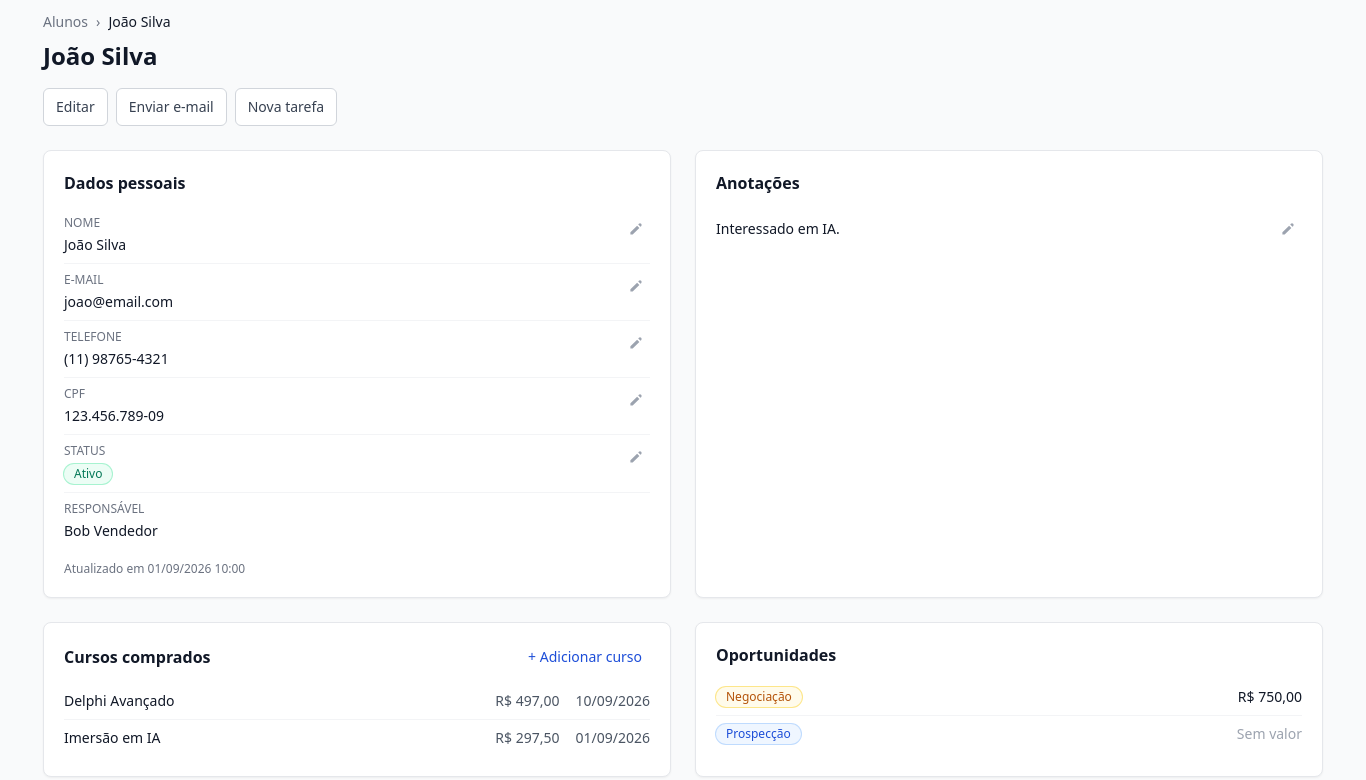
Scenario: página de detalhe do aluno › edição inline › a tela reflete a resposta do servidor, inclusive o updatedAt
Expected: the heading "João Silva" is shown, [43,39,157,72]
Click the button named "Editar cpf": (636, 400) [622,386,650,414]
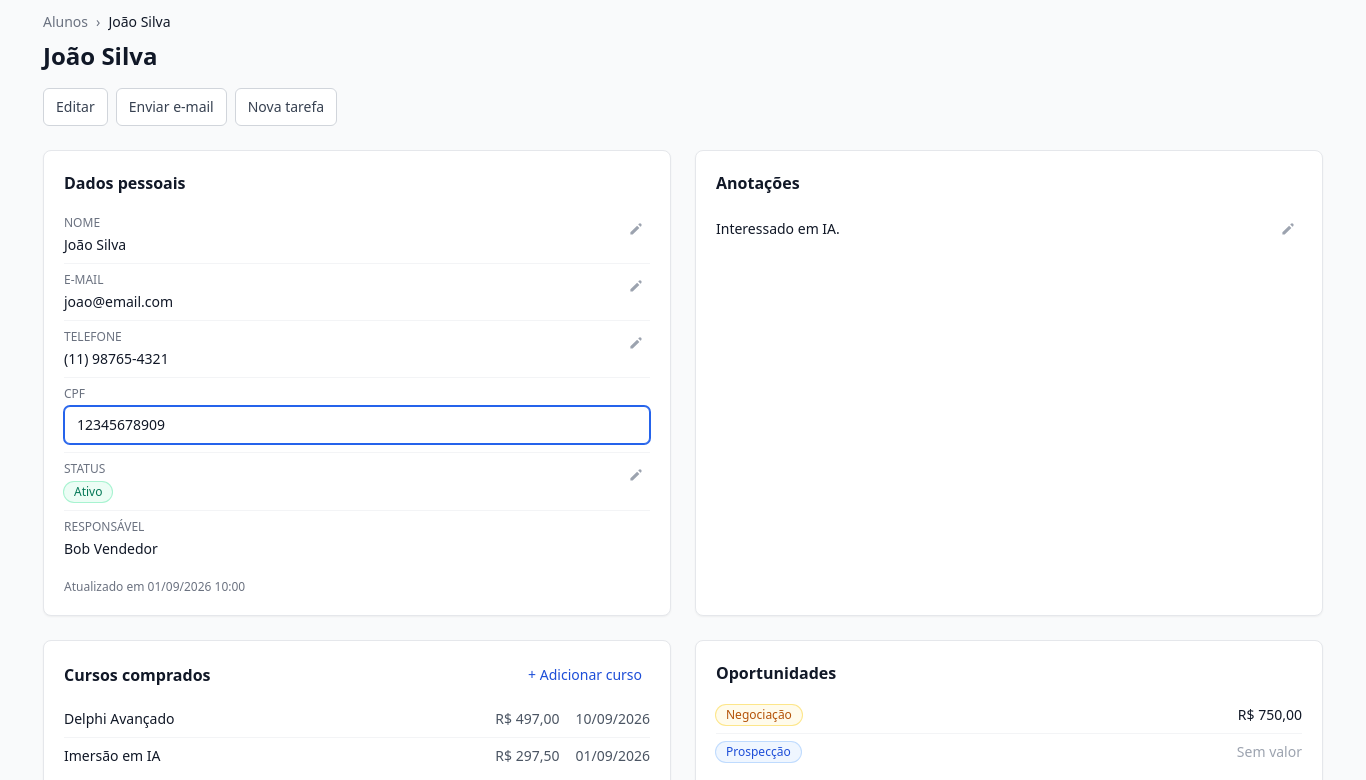
Replace the text in the field labelled "CPF" with "987.654.321-00": (357, 425) [64,406,650,444]
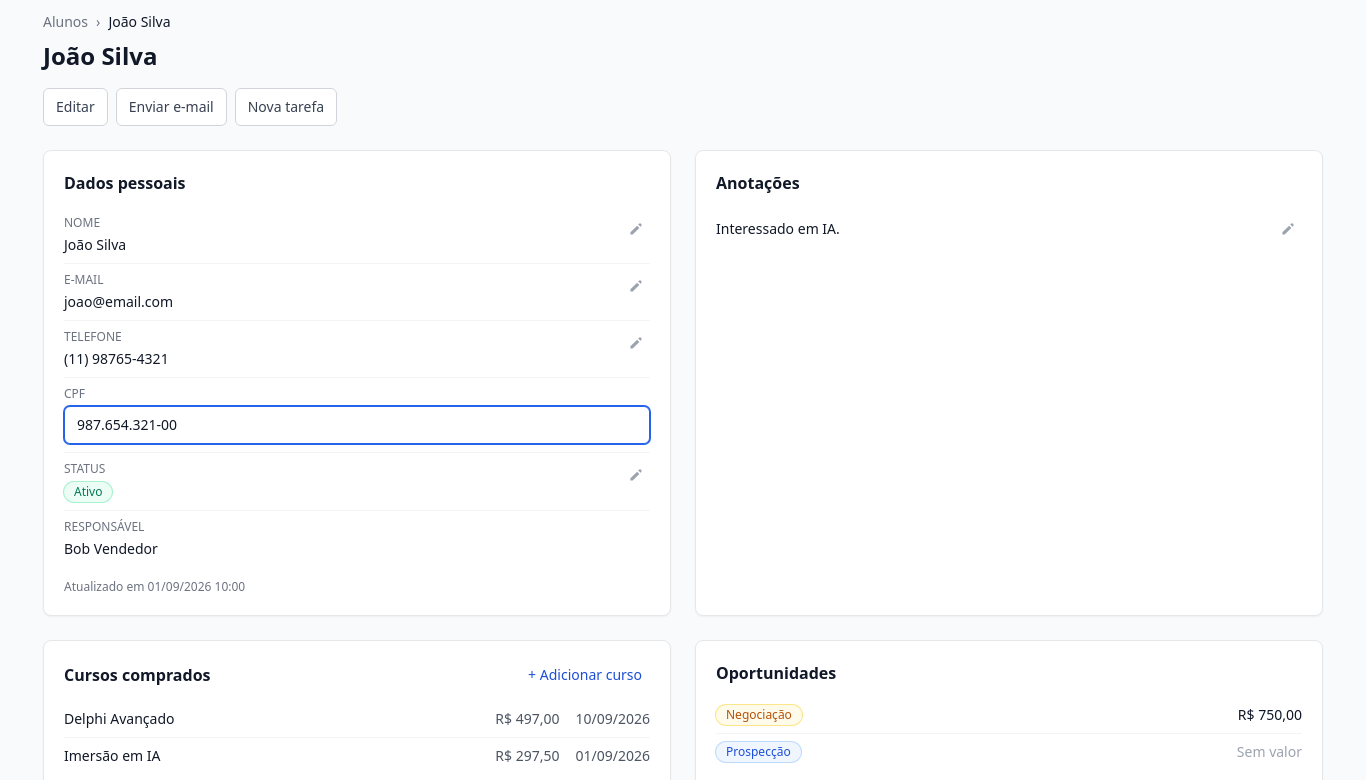
Leave the field labelled "CPF", box [64,406,650,444]
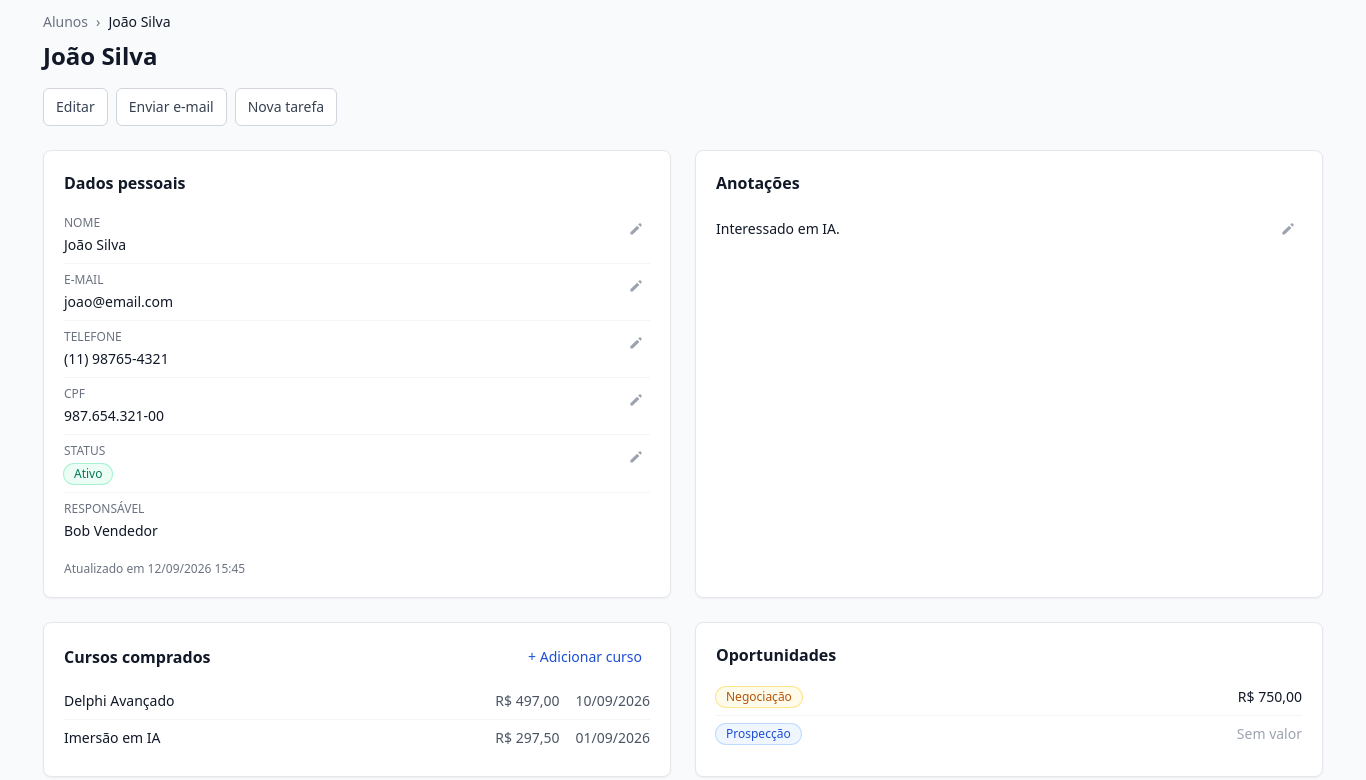
Expected: the text "Imersão em IA" is shown, [64,728,160,748]
Expected: the text "987.654.321-00" is shown, [64,406,164,426]
